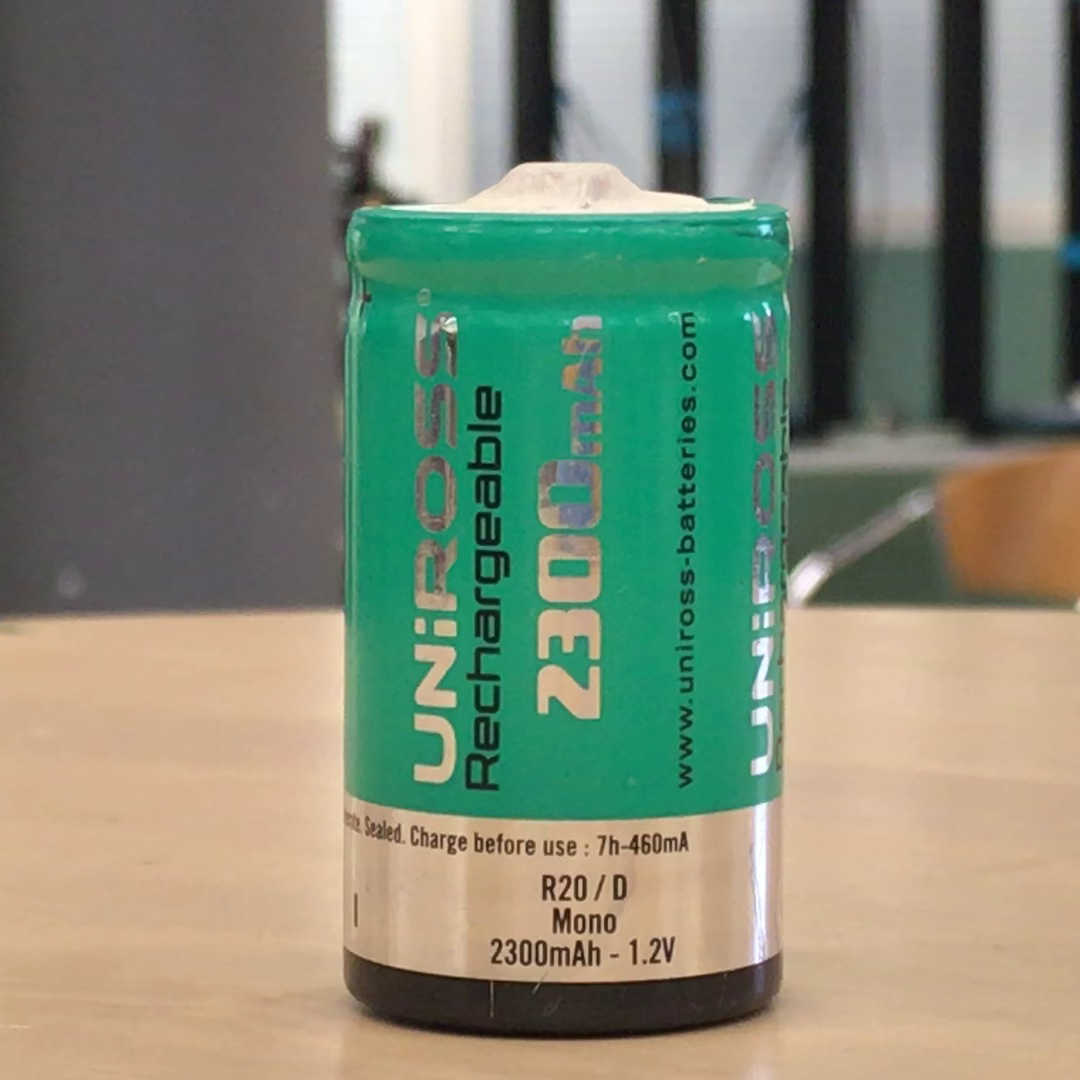keyword: (619, 927, 685, 975)
